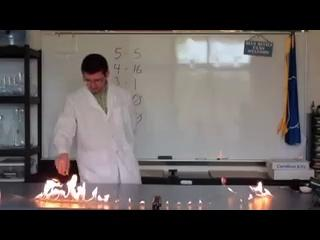Fire: (31, 171, 108, 207), (247, 180, 274, 200)
